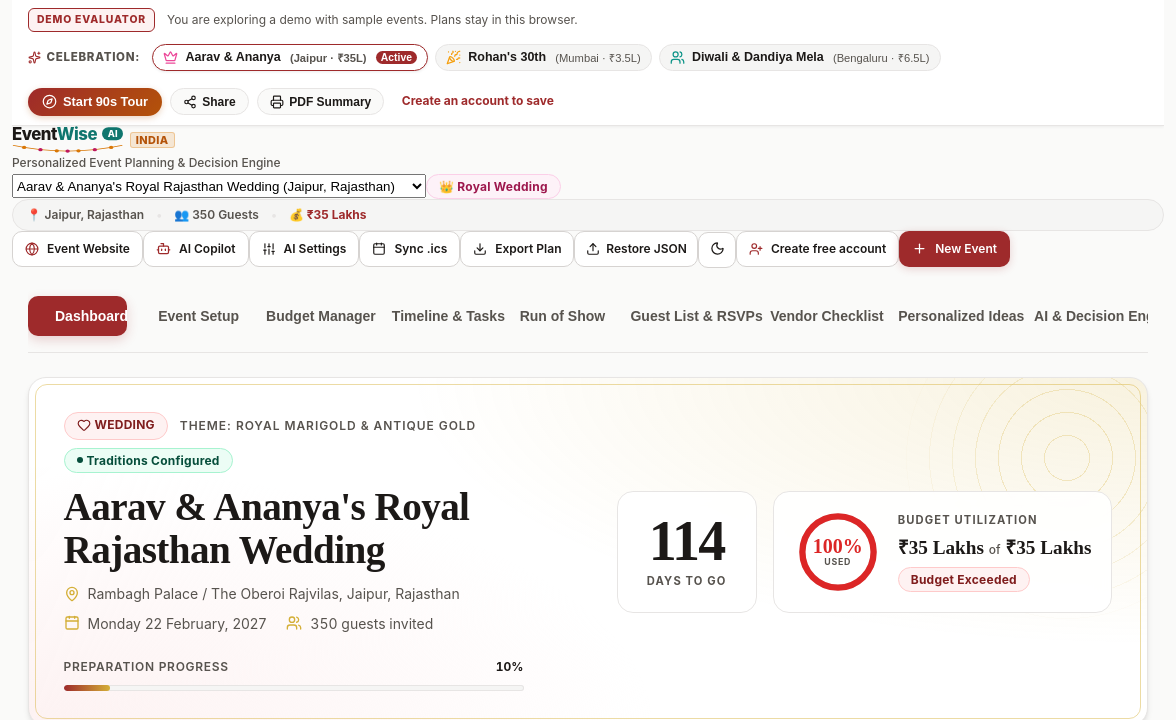
it: EventWise AI UI & Workflow Integration Tests › allows switching active events via the header event selector
// Switch to Rohan's Birthday
Select "Rohan's 30th Bollywood Rooftop Bash (Mumbai, Maharashtra)" in the dropdown named "Select active event plan" at (219, 186), box [12,174,426,198]
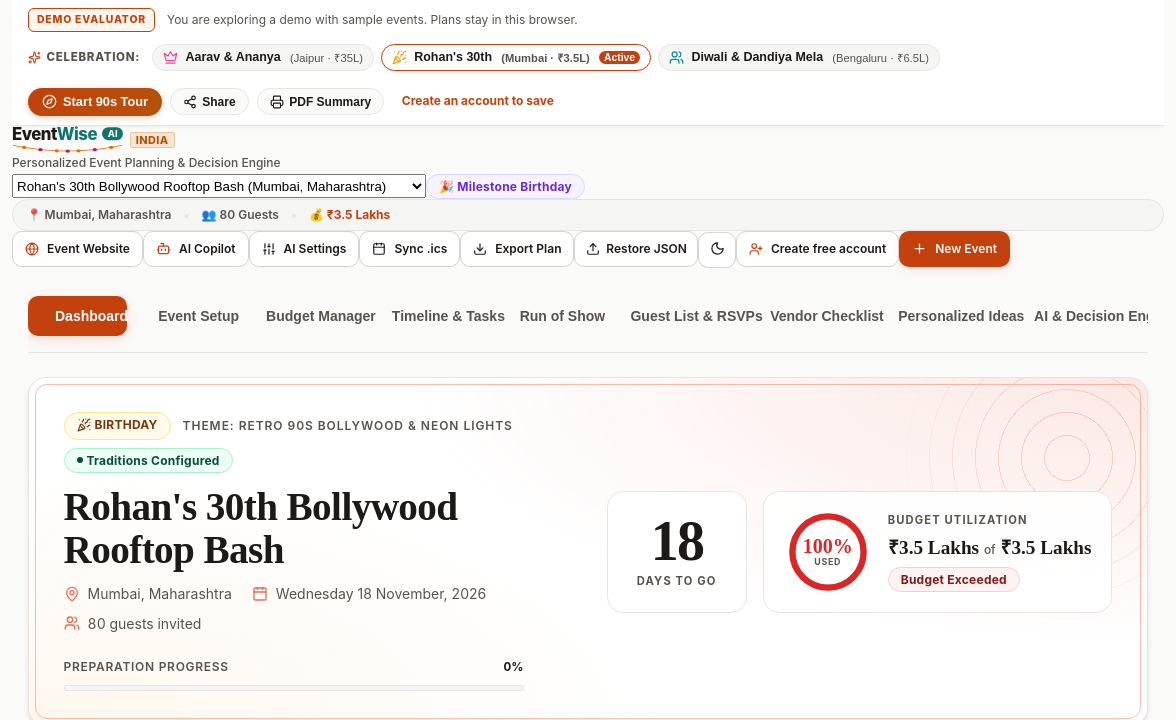
Result: the heading "Rohan's 30th Bollywood Rooftop Bash" is shown at [64,485,458,571]
